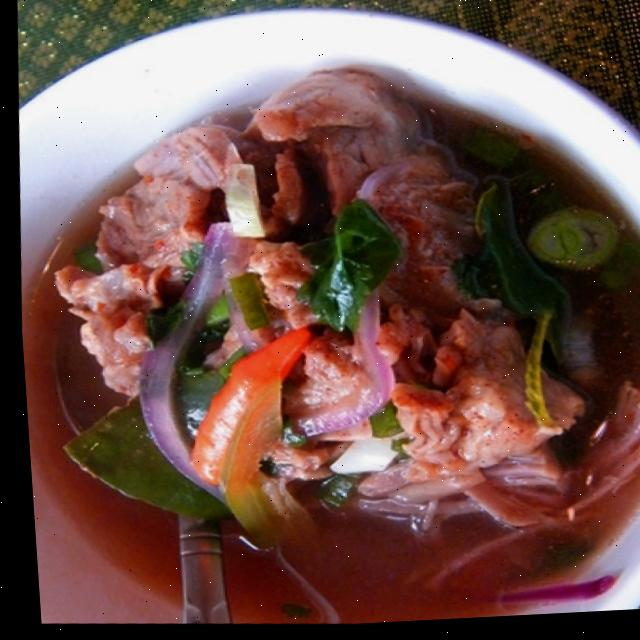汤锅炖物: (2, 12, 640, 640)
